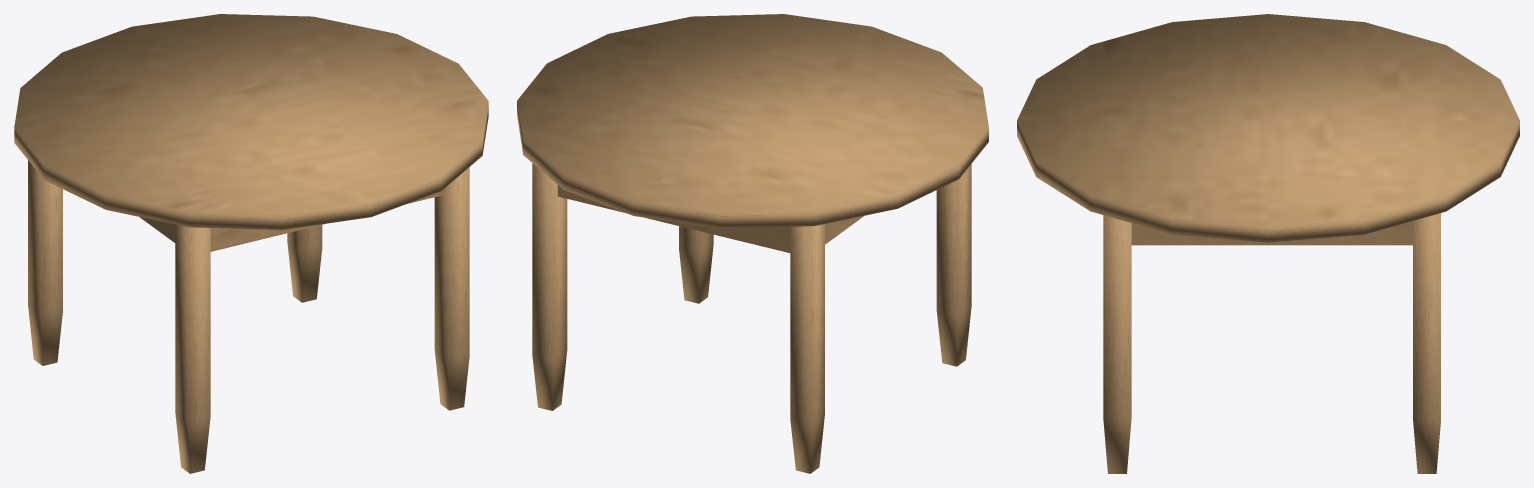
Rendered from K_Table.glb.
3 views of the same model, side by side, from view 1: azimuth 30°, elevation 25°; view 2: azimuth 150°, elevation 25°; view 3: azimuth 270°, elevation 25° (orthographic). The views are drawn at different scales.
Visible parts, largest first — view 1: Kitchen_Table; view 2: Kitchen_Table; view 3: Kitchen_Table.
Boxes of the visible parts, bbox=[...] form: Kitchen_Table: bbox=[14, 14, 488, 473]; Kitchen_Table: bbox=[517, 14, 988, 473]; Kitchen_Table: bbox=[1017, 14, 1519, 473].
Bounding box in the file's own units: 1.72 × 1.07 × 1.72.
Materials: 1 (1 with a texture image).
